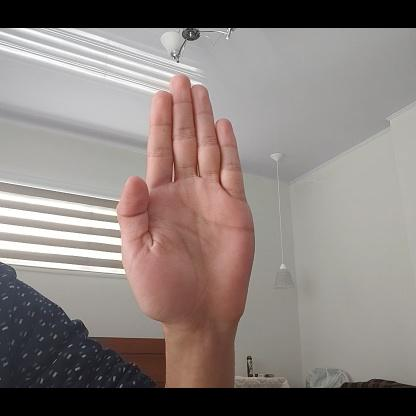B: (117, 73, 256, 333)
